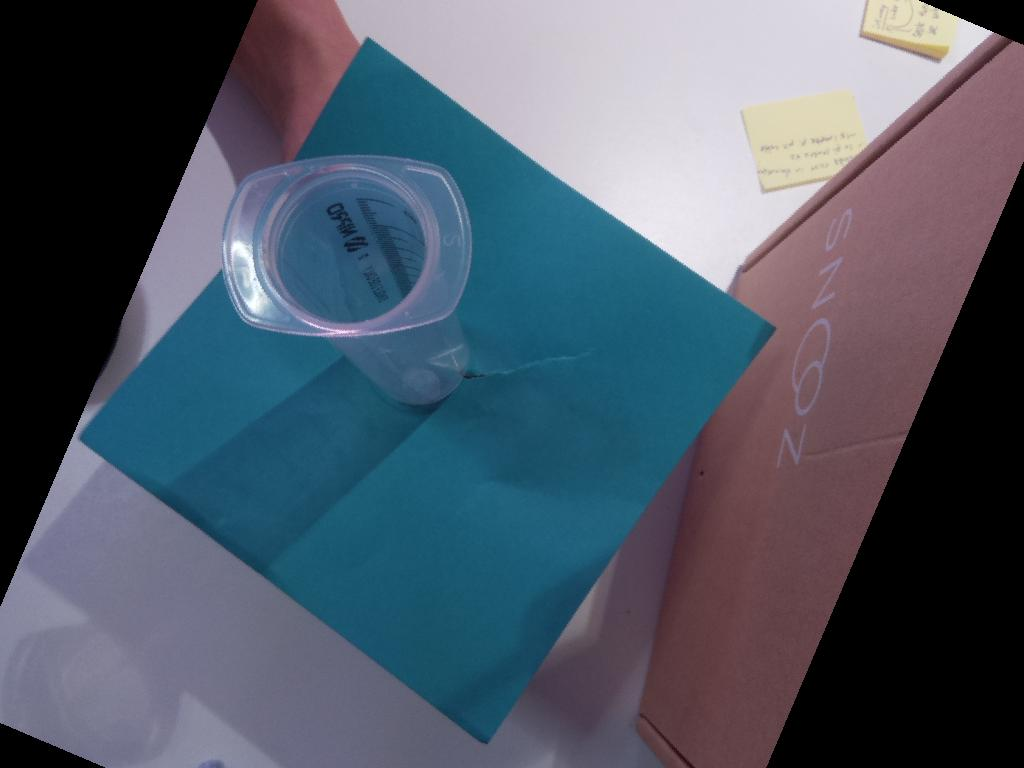clean: (220, 153, 476, 340)
